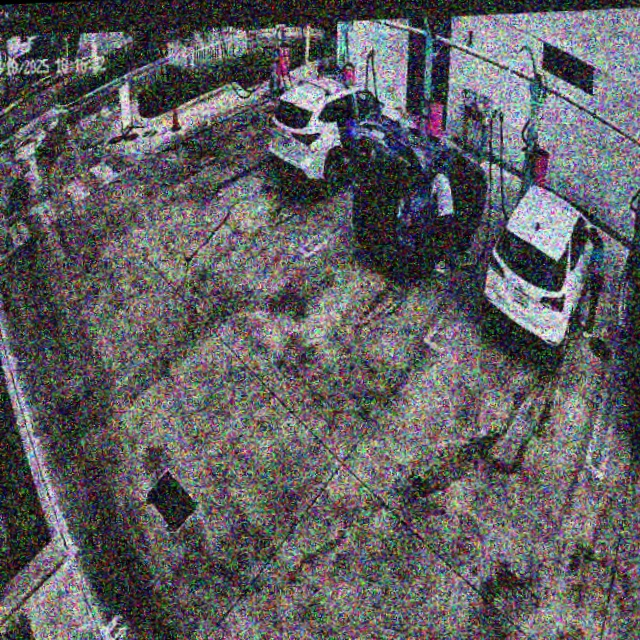Car: (347, 108, 493, 282), (264, 72, 412, 200)
